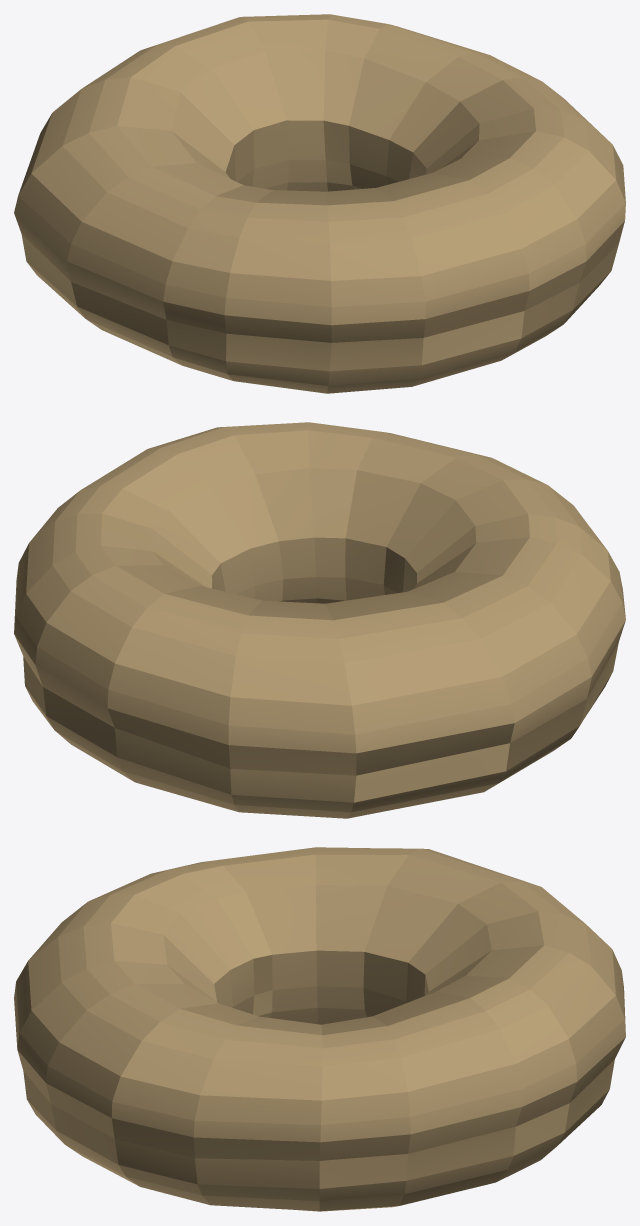
The model's file is Doughnut.fbx.
3 renders of one model, top to bottom at view 1: azimuth 30°, elevation 25°; view 2: azimuth 150°, elevation 25°; view 3: azimuth 270°, elevation 25°, orthographic. The views are drawn at different scales.
Parts seen in each view (by area): view 1: Doughnut; view 2: Doughnut; view 3: Doughnut.
Part boxes in pixels (bbox=[...]): Doughnut: bbox=[14, 14, 625, 393]; Doughnut: bbox=[14, 422, 625, 818]; Doughnut: bbox=[14, 847, 625, 1211].
Bounding box in the file's own units: 15.04 × 5.2 × 15.15.
